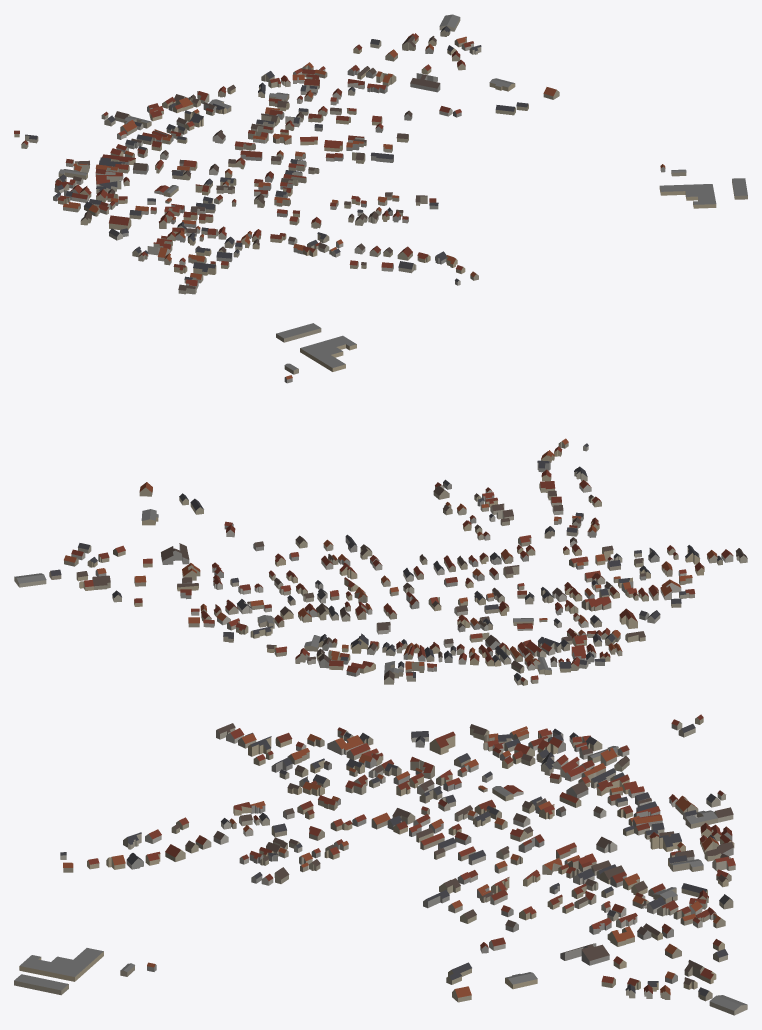
The picture shows the model from 3 angles, top to bottom: view 1: azimuth 30°, elevation 25°; view 2: azimuth 150°, elevation 25°; view 3: azimuth 270°, elevation 25°; orthographic projection. The views are drawn at different scales.
Visible parts, largest first — view 1: buildings; view 2: buildings; view 3: buildings.
Boxes of the visible parts, x1,y1,x2,y2 form: buildings: (14, 14, 747, 294); buildings: (14, 323, 747, 685); buildings: (14, 714, 747, 1015).
Size of the model in its own units: 833 by 71.12 by 824.
